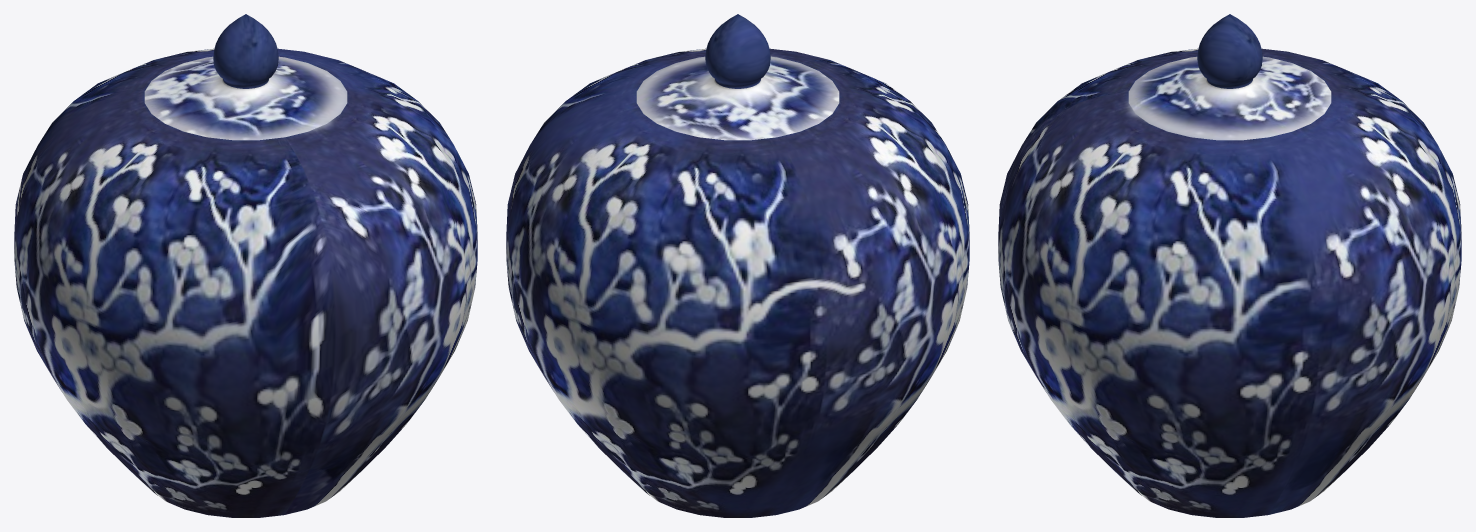
The model's file is porselen-kavanoz.glb.
3 renders of one model, left to right at view 1: azimuth 30°, elevation 25°; view 2: azimuth 150°, elevation 25°; view 3: azimuth 270°, elevation 25°, orthographic.
Visible parts, largest first — view 1: Jar.003; view 2: Jar.003; view 3: Jar.003.
Boxes of the visible parts, bbox=[...] form: Jar.003: bbox=[14, 14, 477, 517]; Jar.003: bbox=[506, 14, 969, 517]; Jar.003: bbox=[998, 14, 1461, 517].
Size of the model in its own units: 0.2586 by 0.2849 by 0.2586.
Materials: 1 (1 with a texture image).
